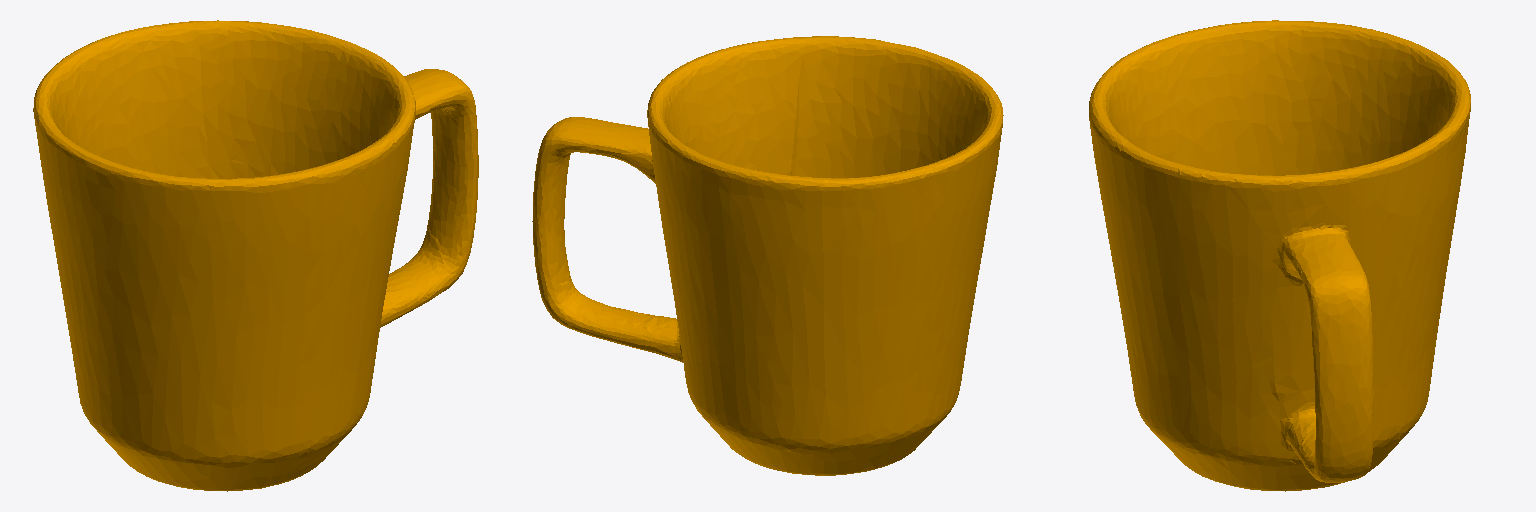
The robot description file, URDF, robot "Room_Essentials_Mug_White_Yellow":
<?xml version="1.0"?>
<robot name="Room_Essentials_Mug_White_Yellow">
  <link name="base_link">
    <contact>
      <lateral_friction value="1.0"/>
      <rolling_friction value="0.0"/>
      <contact_cfm value="0.0"/>
      <contact_erp value="1.0"/>
    </contact>
    <inertial>
      <mass value="0.752931167962"/>
      <inertia ixx="1" ixy="0" ixz="0" iyy="1" iyz="0" izz="1"/>
    </inertial>
    <visual>
      <geometry>
        <mesh filename="Room_Essentials_Mug_White_Yellow_visual.obj"/>
      </geometry>
    </visual>
    <collision>
      <geometry>
        <mesh filename="Room_Essentials_Mug_White_Yellow_collision.obj"/>
      </geometry>
    </collision>
  </link>
</robot>

--- Facts derived from the render (not from the file) ---
The picture shows the robot from 3 angles, left to right: view 1: azimuth 30°, elevation 25°; view 2: azimuth 150°, elevation 25°; view 3: azimuth 270°, elevation 25°; orthographic projection.
Model Room_Essentials_Mug_White_Yellow with 1 links and 0 joints (none), rooted at base_link, posed all joints at 0.
Links seen in each view (by area): view 1: base_link; view 2: base_link; view 3: base_link.
Link boxes in pixels (bbox=[...]): base_link: bbox=[33, 20, 478, 491]; base_link: bbox=[532, 36, 1003, 475]; base_link: bbox=[1089, 20, 1470, 491].
Size in the robot's own frame: 0.1312 by 0.098 by 0.1005 metres.
1 mesh visuals loaded from 1 distinct referenced files (1 OBJ).